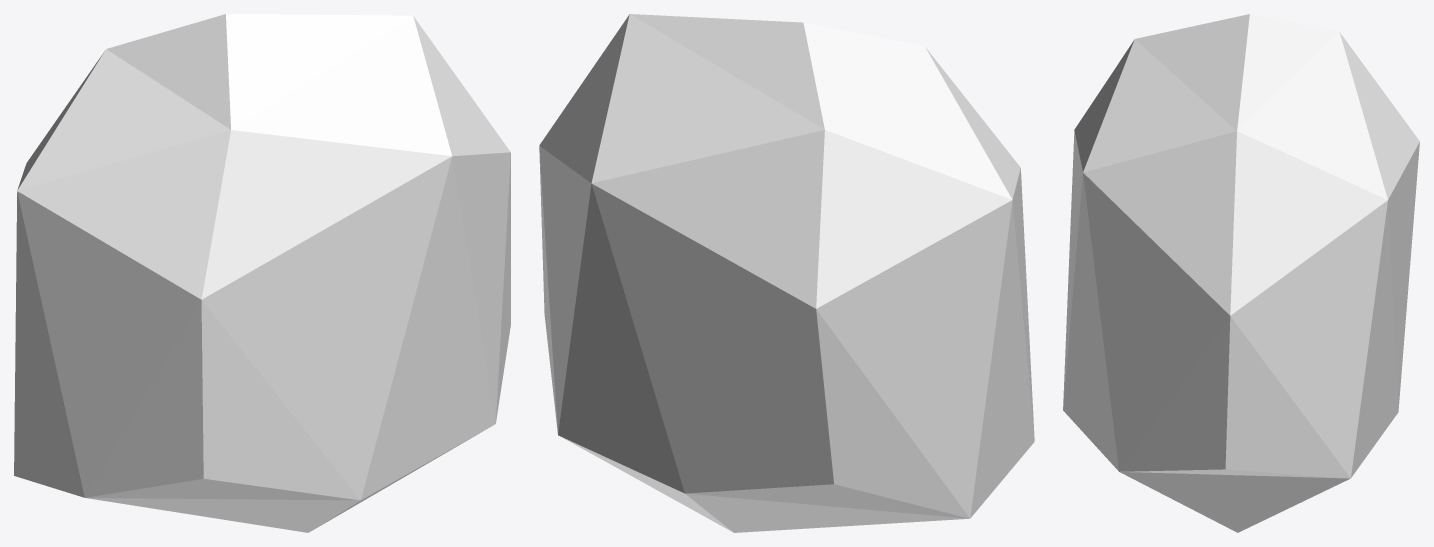
Rendered from cloud_02.fbx.
3 renders of one model, left to right at view 1: azimuth 30°, elevation 25°; view 2: azimuth 150°, elevation 25°; view 3: azimuth 270°, elevation 25°, orthographic. The views are drawn at different scales.
Visible parts, largest first — view 1: cloud_02; view 2: cloud_02; view 3: cloud_02.
Part boxes in pixels (<box>): cloud_02: <box>14,14,510,532</box>; cloud_02: <box>539,14,1034,532</box>; cloud_02: <box>1063,14,1419,532</box>.
Size of the model in its own units: 115 by 121 by 80.62.
1 material, 1 textured.
